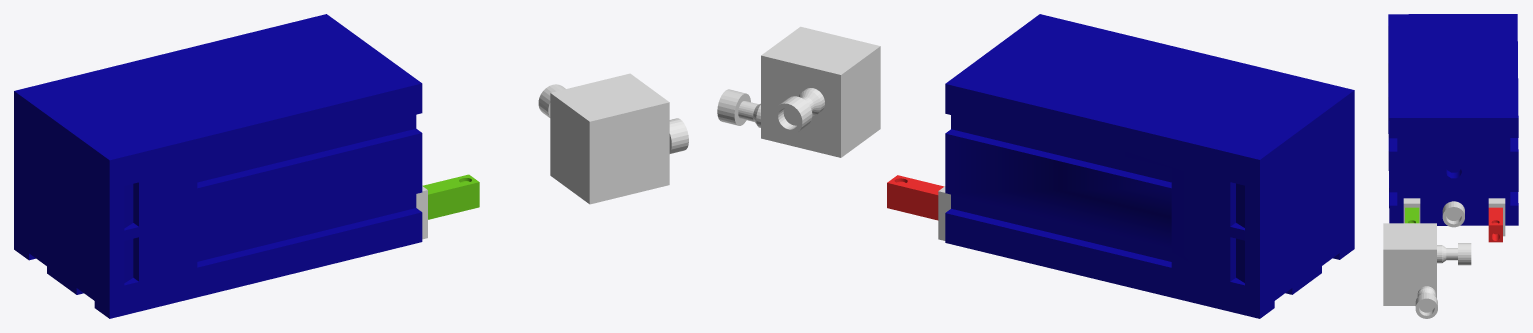
The model's file is Problem4_SuctionCompressorCrane.FBX.
3 views of the same model, side by side, from view 1: azimuth 30°, elevation 25°; view 2: azimuth 150°, elevation 25°; view 3: azimuth 270°, elevation 25° (orthographic). The views are drawn at different scales.
Parts seen in each view (by area): view 1: CraneMotorBlock003, Box110, GreenWireConnection006, Cylinder037; view 2: CraneMotorBlock003, Box110, RedWireConnection006, Cylinder036, Cylinder037, Box108; view 3: CraneMotorBlock003, Box110, Cylinder036, Cylinder037, RedWireConnection006, Cylinder035, Box108, GreenWireConnection006, Box109.
Boxes of the visible parts, box(x1,y1,x2,y2) form: CraneMotorBlock003: box(14, 14, 422, 318); Box110: box(550, 73, 669, 204); GreenWireConnection006: box(422, 174, 479, 219); Cylinder037: box(669, 118, 688, 153); CraneMotorBlock003: box(945, 14, 1354, 318); Box110: box(761, 26, 880, 157); RedWireConnection006: box(887, 175, 944, 220); Cylinder036: box(774, 88, 824, 134); Cylinder037: box(717, 89, 760, 127); Box108: box(938, 186, 950, 240); CraneMotorBlock003: box(1388, 14, 1518, 225); Box110: box(1383, 223, 1436, 305); Cylinder036: box(1437, 243, 1471, 265); Cylinder037: box(1415, 286, 1437, 318); RedWireConnection006: box(1488, 207, 1502, 242); Cylinder035: box(1442, 201, 1464, 227); Box108: box(1488, 198, 1505, 236); GreenWireConnection006: box(1405, 207, 1419, 223); Box109: box(1403, 198, 1420, 223).
Bounding box in the file's own units: 52 × 13.77 × 14.91.
